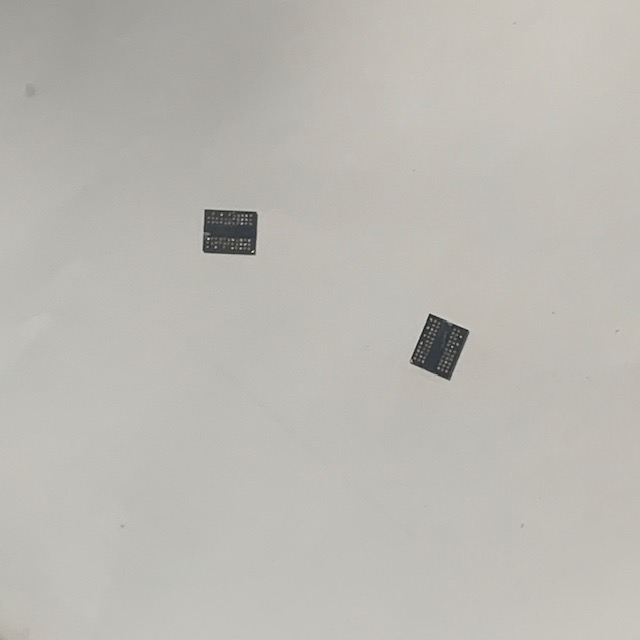IC: (406, 310, 472, 383), (199, 205, 261, 260)
